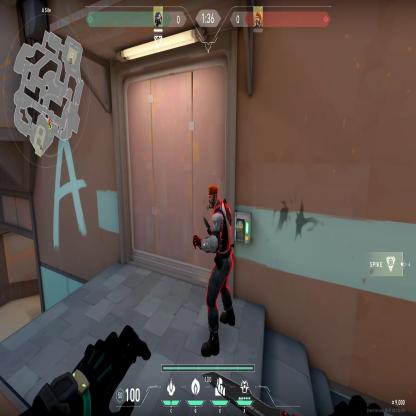enemy: (191, 183, 236, 360)
